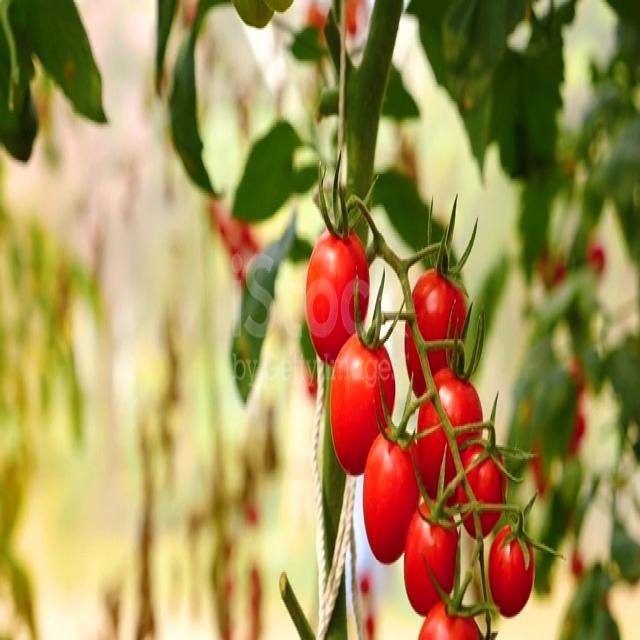tomato: (414, 374, 483, 509), (330, 335, 395, 475), (306, 230, 369, 364), (407, 266, 466, 402), (364, 433, 420, 562), (404, 511, 458, 614), (459, 442, 508, 539), (489, 526, 534, 616), (419, 600, 481, 640)
